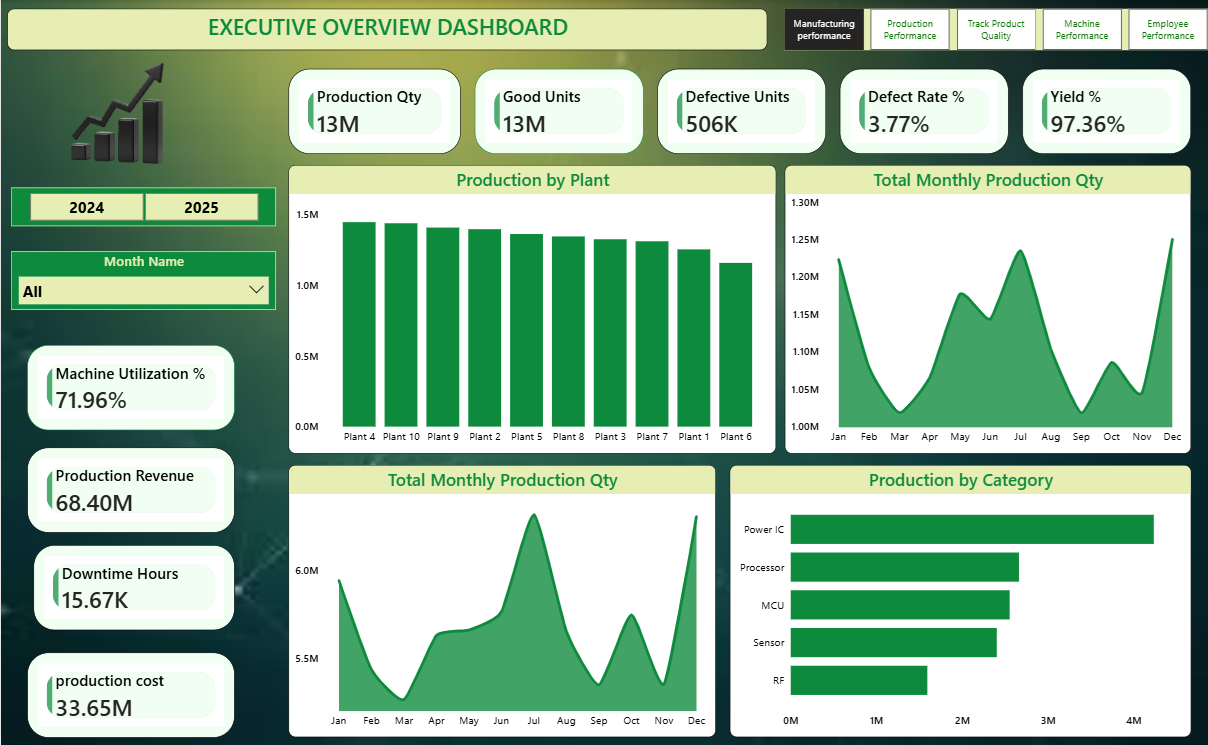

The dashboard page shown, as its layout file describes it:
{"tool":"powerbi","page":{"name":"Manufacturing performance","canvas":[1700,1050],"ordinal":0},"visuals":[{"type":"cardVisual","title":"Production quantity","fields":{"Data":["Measure Table.Total production qty"]},"box":[404.7,96.8,242.8,119.6],"z":0},{"type":"cardVisual","title":"Production quantity","fields":{"Data":["Measure Table.Total Good Units"]},"box":[666.8,96.8,237.5,119.6],"z":1000},{"type":"cardVisual","title":"Production quantity","fields":{"Data":["Measure Table.Total Defective Units"]},"box":[923.7,96.8,237.5,119.6],"z":2000},{"type":"cardVisual","title":"Production quantity","fields":{"Data":["Measure Table.Total Revenue"]},"box":[36.9,629.9,292.1,119.6],"z":3000},{"type":"cardVisual","title":"Production quantity","fields":{"Data":["Measure Table.Total production cost"]},"box":[36.9,918.4,292.1,119.6],"z":4000},{"type":"cardVisual","title":"Production quantity","fields":{"Data":["Measure Table.Defect Rate %"]},"box":[1180.6,96.8,237.5,119.6],"z":5000},{"type":"cardVisual","title":"Production quantity","fields":{"Data":["Measure Table.Yield %"]},"box":[1437.4,96.8,237.5,119.6],"z":6000},{"type":"cardVisual","title":"Production quantity","fields":{"Data":["Measure Table.Machine Utilization %"]},"box":[36.9,485.6,292.1,119.6],"z":7000},{"type":"cardVisual","title":"Production quantity","fields":{"Data":["Measure Table.Total Downtime Hours"]},"box":[45.7,767.1,283.3,119.6],"z":8000},{"type":"textbox","title":"EXECUTIVE OVERVIEW DASHBOARD","box":[8.8,12.3,1069.7,58.1],"z":9000},{"type":"lineChart","title":"Total Monthly Production Qty","fields":{"Y":["Measure Table.Total production qty"],"Category":["Dim_Date.Month Short"]},"box":[1103.1,232.2,571.8,406.4],"z":10000},{"type":"clusteredColumnChart","title":"Production by Plant","fields":{"Category":["Dim_Plant.PlantName"],"Y":["Measure Table.Total production qty"]},"box":[404.7,232.2,686.2,406.4],"z":11000},{"type":"clusteredBarChart","title":"Production by Category","fields":{"Category":["Dim_Product.Category"],"Y":["Measure Table.Total production qty"]},"box":[1025.7,654.5,649.2,383.5],"z":12000},{"type":"lineChart","title":"Total Monthly Production Qty","fields":{"Category":["Dim_Date.Month Short"],"Y":["Measure Table.Total Revenue"]},"box":[404.7,654.5,601.7,383.5],"z":13000},{"type":"slicer","fields":{"Values":["Dim_Date.Year"]},"box":[14.1,263.9,373,54.5],"z":14000},{"type":"slicer","title":"Month Name","fields":{"Values":["Dim_Date.Month Short"]},"box":[14.1,353.6,373,82.7],"z":15000},{"type":"pageNavigator","box":[1103.1,12.3,596.4,58.1],"z":16000},{"type":"image","box":[36.9,47.5,253.4,216.4],"z":17000}]}

Visuals, with their boxes in screenshot pixels (x1, y1, x2, y2), scaled from the page's 1700x1050 canvas onto the 1208x745 screenshot:
"Production quantity" cardVisual: 288,69,460,154
"Production quantity" cardVisual: 474,69,643,154
"Production quantity" cardVisual: 656,69,825,154
"Production quantity" cardVisual: 26,447,234,532
"Production quantity" cardVisual: 26,652,234,736
"Production quantity" cardVisual: 839,69,1008,154
"Production quantity" cardVisual: 1021,69,1190,154
"Production quantity" cardVisual: 26,345,234,429
"Production quantity" cardVisual: 32,544,234,629
"EXECUTIVE OVERVIEW DASHBOARD" textbox: 6,9,766,50
"Total Monthly Production Qty" lineChart: 784,165,1190,453
"Production by Plant" clusteredColumnChart: 288,165,775,453
"Production by Category" clusteredBarChart: 729,464,1190,736
"Total Monthly Production Qty" lineChart: 288,464,715,736
slicer - Dim_Date.Year: 10,187,275,226
"Month Name" slicer: 10,251,275,310
pageNavigator: 784,9,1207,50
image: 26,34,206,187
